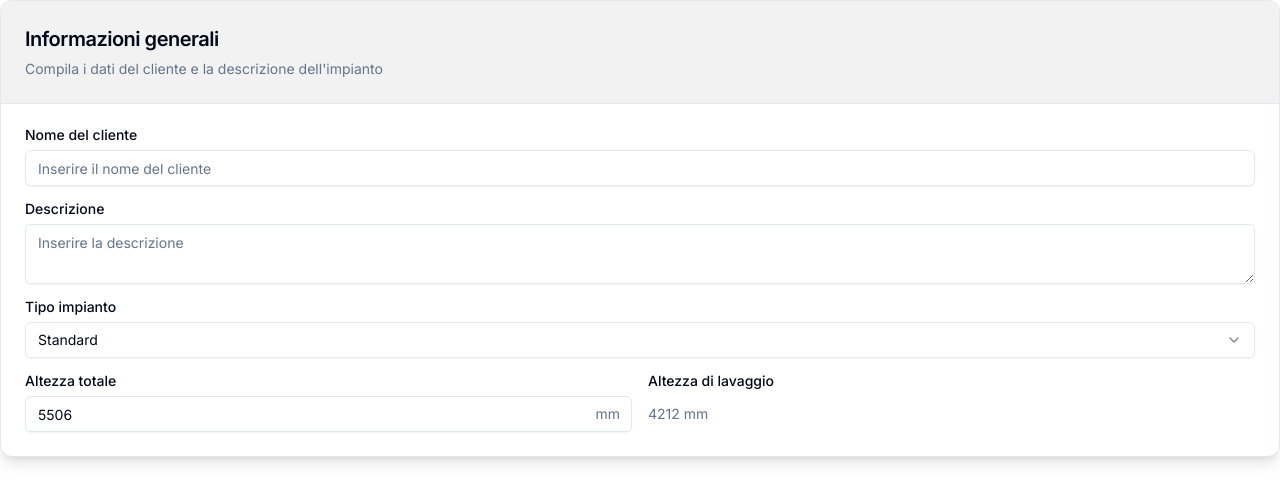
GeneralSection › wash_height display shows — when total_height is cleared
Step 1. Clear the number field labelled "Altezza totale" → (328, 414), box [25,396,632,432]
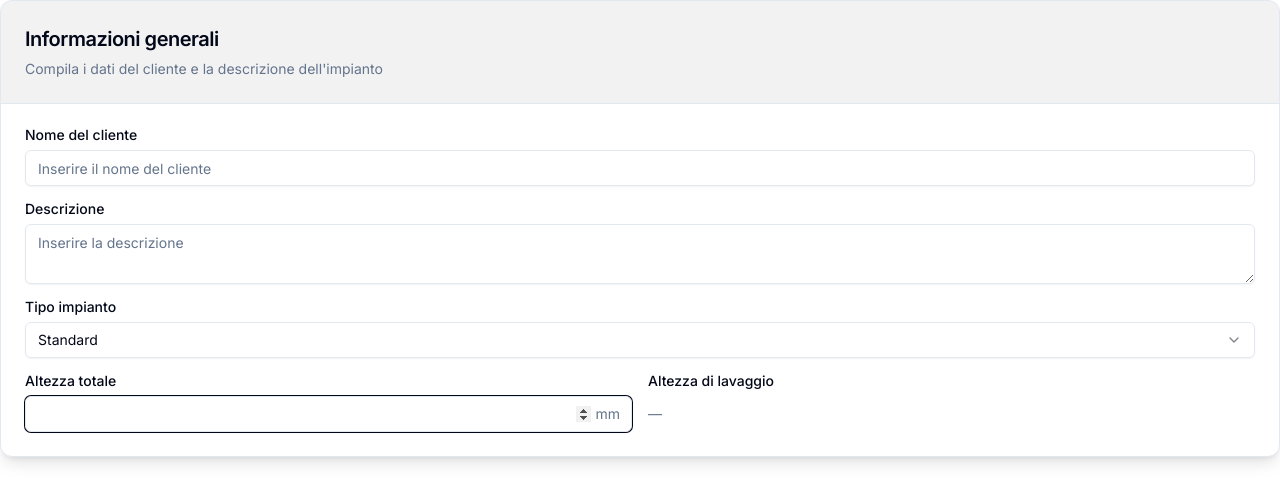
Result: the text "—" is shown at [648,405,662,422]
